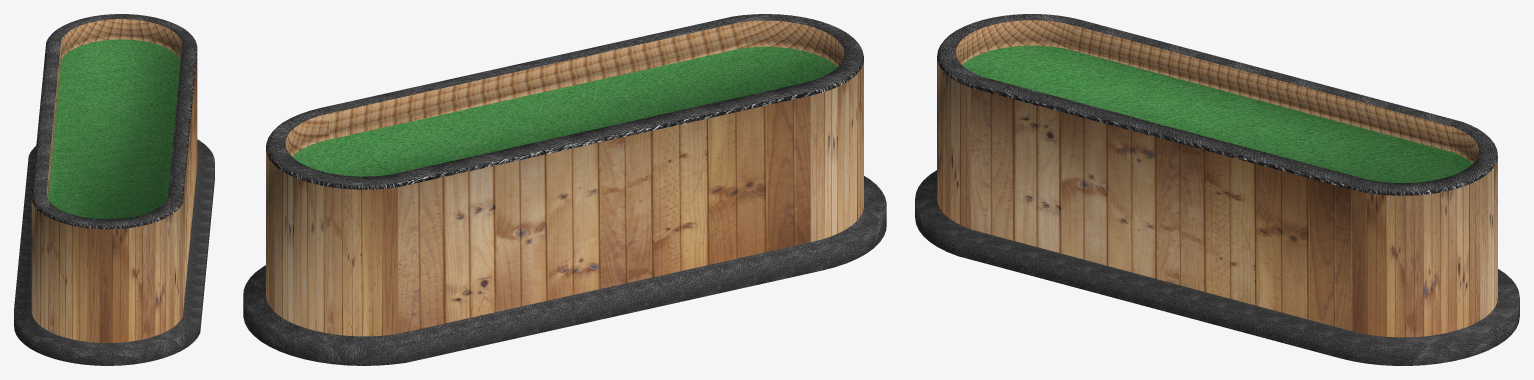
File: Dicepokertable2.glb
The picture shows the model from 3 angles, left to right: view 1: azimuth 30°, elevation 25°; view 2: azimuth 150°, elevation 25°; view 3: azimuth 270°, elevation 25°; orthographic projection. The views are drawn at different scales.
Parts seen in each view (by area): view 1: Circle; view 2: Circle; view 3: Circle.
Boxes of the visible parts, x1,y1,x2,y2 form: Circle: (14,14,214,365); Circle: (243,14,886,365); Circle: (915,14,1519,365).
Size of the model in its own units: 3.99 by 1.56 by 5.17.
4 materials, 4 textured.
